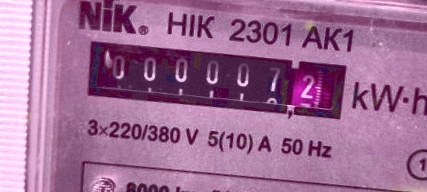0: (108, 51, 128, 80), (233, 59, 252, 89), (202, 57, 222, 85), (140, 53, 159, 82), (171, 54, 190, 83)
2: (298, 72, 317, 100)
7: (264, 62, 283, 94)
screen: (72, 26, 359, 132)
